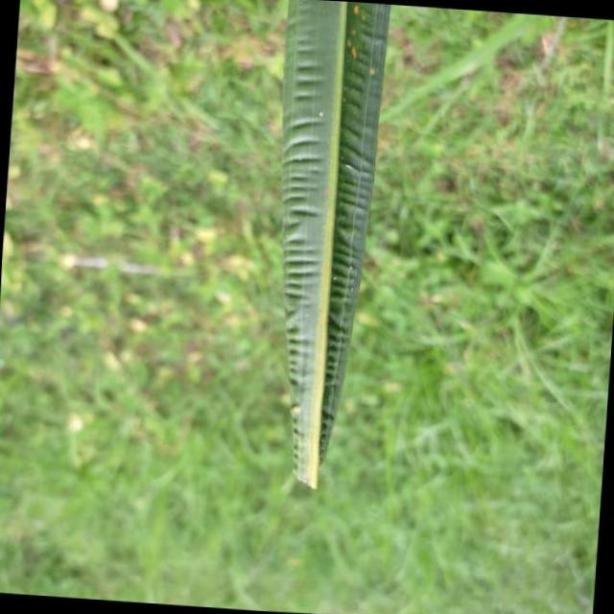Boron: (282, 0, 389, 494)
